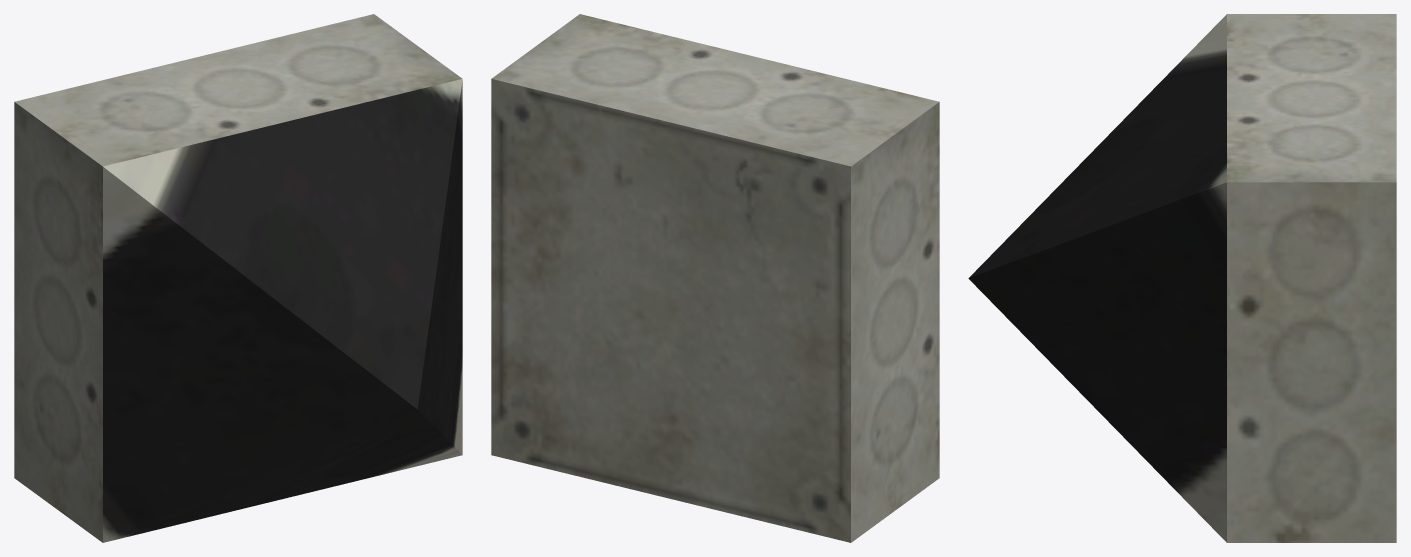
Rendered from p6_garage_pipes_camera_LOD3.obj.
3 views of the same model, side by side, from view 1: azimuth 30°, elevation 25°; view 2: azimuth 150°, elevation 25°; view 3: azimuth 270°, elevation 25° (orthographic). The views are drawn at different scales.
Parts seen in each view (by area): view 1: mtl_p6_pipes_garage_details; view 2: mtl_p6_pipes_garage_details; view 3: mtl_p6_pipes_garage_details.
Boxes of the visible parts, box(x1,y1,x2,y2) form: mtl_p6_pipes_garage_details: box(14, 14, 462, 542); mtl_p6_pipes_garage_details: box(491, 14, 939, 542); mtl_p6_pipes_garage_details: box(968, 14, 1396, 542).
Bounding box in the file's own units: 16.86 × 16.86 × 18.15.
